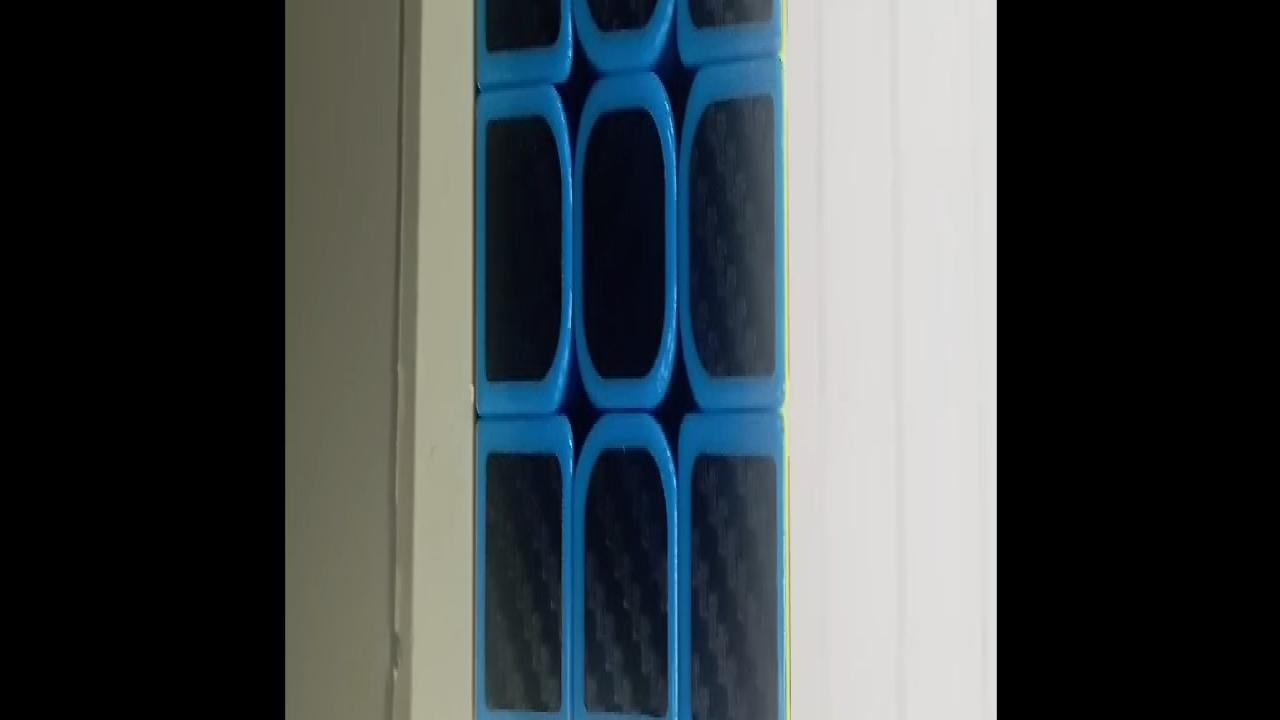Cube: (472, 0, 790, 720)
